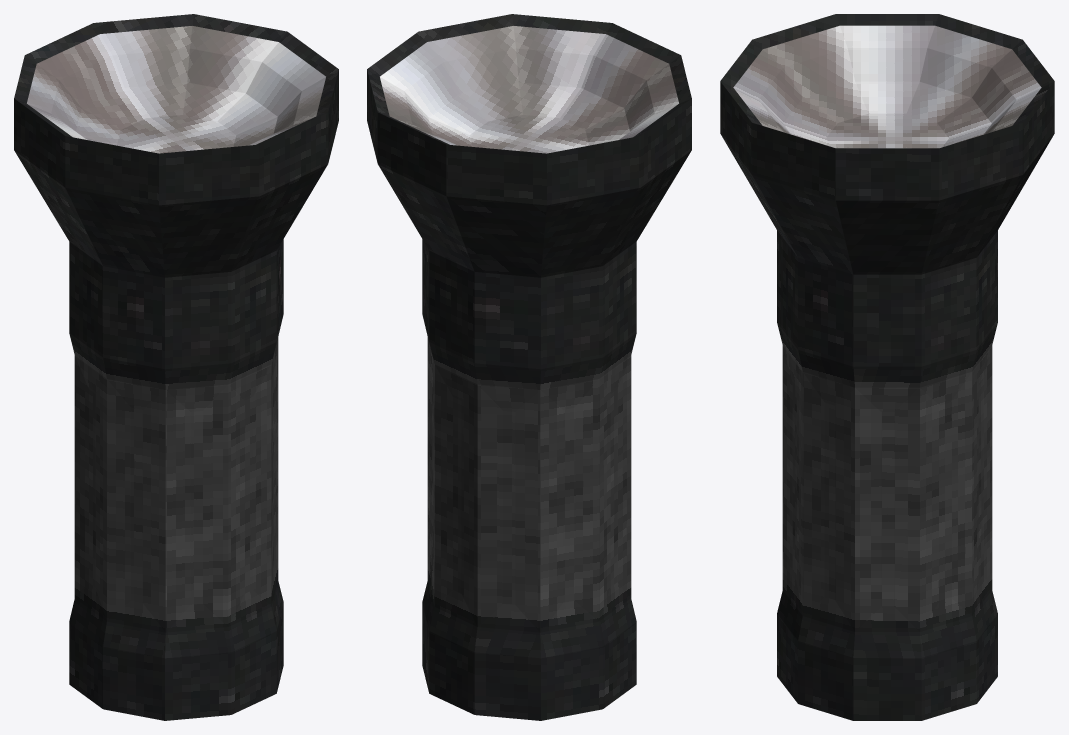
Rendered from flashlight.glb.
3 renders of one model, left to right at view 1: azimuth 30°, elevation 25°; view 2: azimuth 150°, elevation 25°; view 3: azimuth 270°, elevation 25°, orthographic.
Visible parts, largest first — view 1: Cylinder; view 2: Cylinder; view 3: Cylinder.
Part boxes in pixels (x1,y1,x2,y2): Cylinder: [14, 14, 338, 720]; Cylinder: [367, 14, 691, 720]; Cylinder: [720, 14, 1054, 720].
Bounding box in the file's own units: 0.5947 × 1.23 × 0.6253.
Materials: 1 (1 with a texture image).
